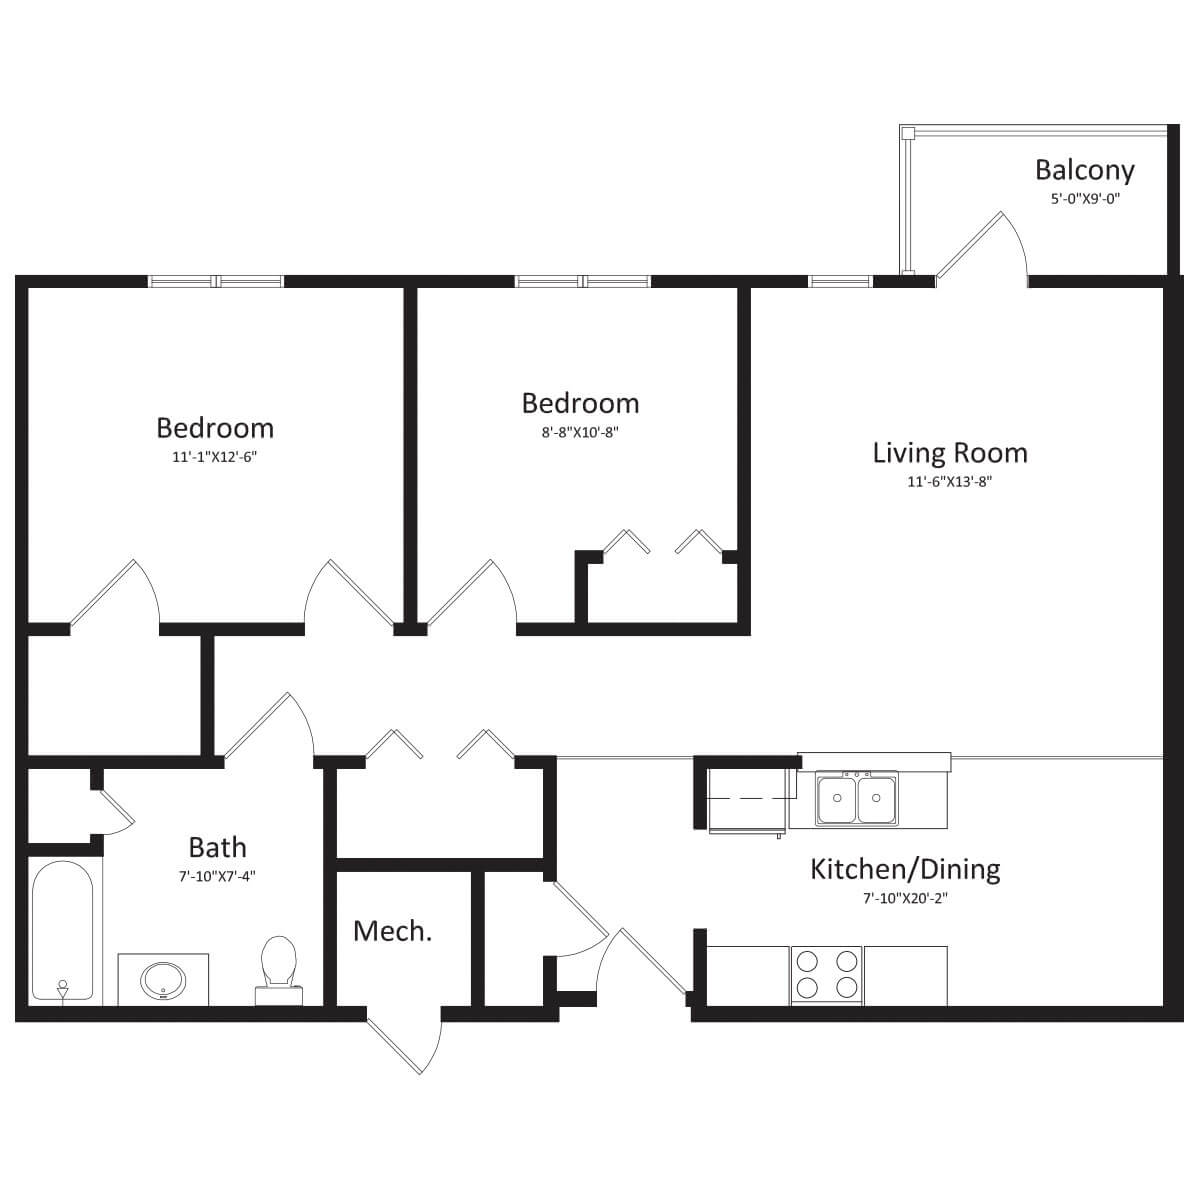wall: (1156, 285, 1195, 769), (685, 1004, 1197, 1026), (400, 280, 427, 622), (1158, 762, 1191, 1027), (10, 280, 34, 634), (574, 611, 754, 652), (19, 1004, 332, 1026), (734, 284, 754, 545), (462, 871, 493, 1013), (10, 851, 34, 1022), (643, 263, 754, 297), (322, 856, 476, 880), (398, 263, 513, 295), (195, 627, 223, 752), (535, 762, 565, 880), (284, 265, 402, 293), (1026, 269, 1171, 291), (1162, 122, 1182, 271), (12, 634, 33, 782), (478, 1002, 562, 1038), (22, 271, 141, 297), (109, 752, 223, 776), (474, 854, 560, 884), (685, 752, 802, 771), (747, 258, 805, 297), (326, 862, 343, 993), (730, 560, 760, 627), (510, 613, 574, 645), (567, 549, 593, 621), (689, 754, 711, 838), (14, 756, 33, 854), (319, 763, 338, 854), (23, 752, 109, 771), (305, 749, 367, 774), (538, 952, 565, 1005), (691, 927, 705, 1024), (876, 273, 927, 297), (159, 619, 214, 641), (434, 993, 473, 1024), (721, 538, 756, 569), (571, 538, 602, 571), (16, 619, 70, 637), (502, 752, 554, 769), (547, 993, 597, 1011), (324, 1004, 365, 1022), (398, 616, 432, 637), (84, 769, 116, 789)
